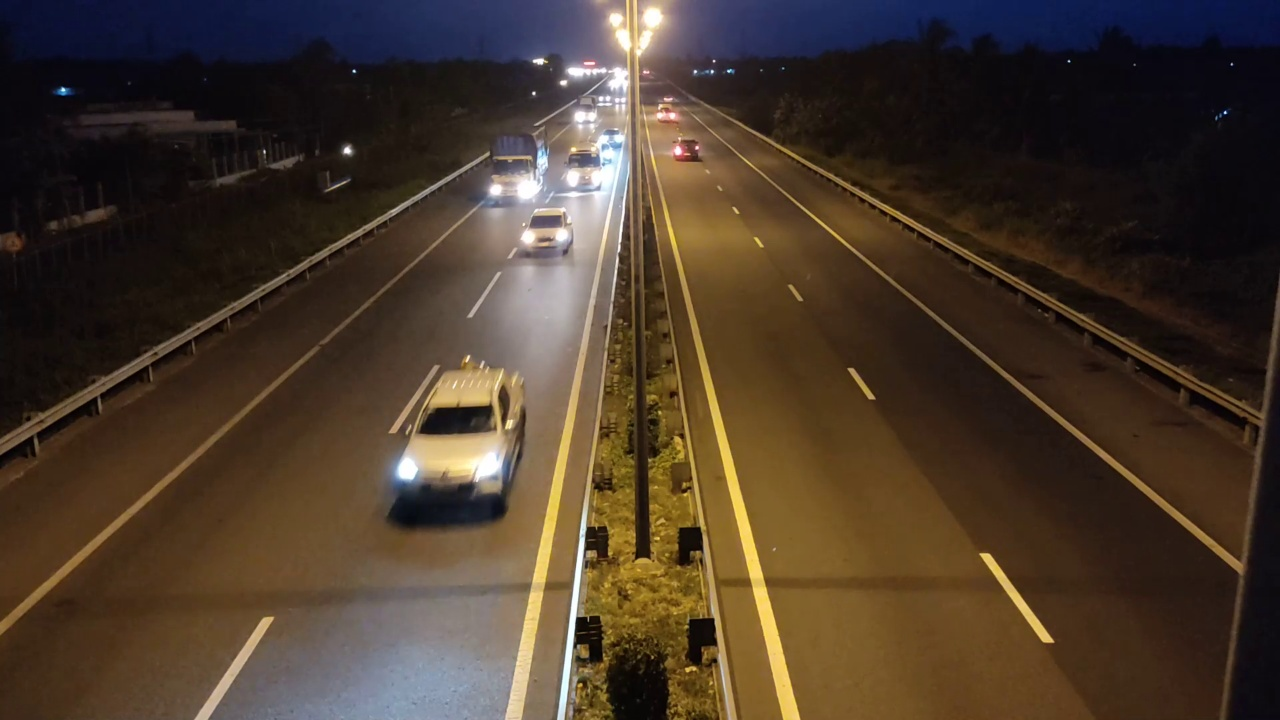car: (388, 355, 527, 523), (518, 207, 574, 259), (670, 138, 702, 162)
